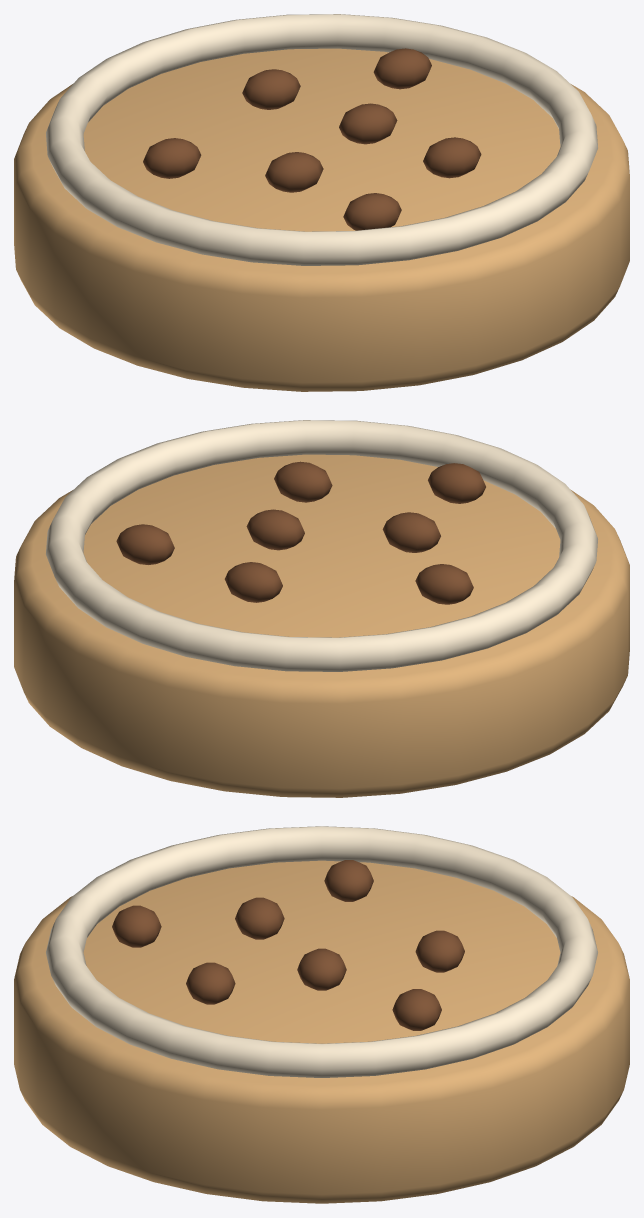
File: weapon_cookie_soft.glb
The picture shows the model from 3 angles, top to bottom: view 1: azimuth 30°, elevation 25°; view 2: azimuth 150°, elevation 25°; view 3: azimuth 270°, elevation 25°; orthographic projection.
Parts seen in each view (by area): view 1: weapon_cookie_soft; view 2: weapon_cookie_soft; view 3: weapon_cookie_soft.
Part boxes in pixels (x1,y1,x2,y2): weapon_cookie_soft: (14, 14, 629, 391); weapon_cookie_soft: (14, 420, 629, 797); weapon_cookie_soft: (14, 826, 629, 1203).
Size of the model in its own units: 0.62 by 0.167 by 0.62.
